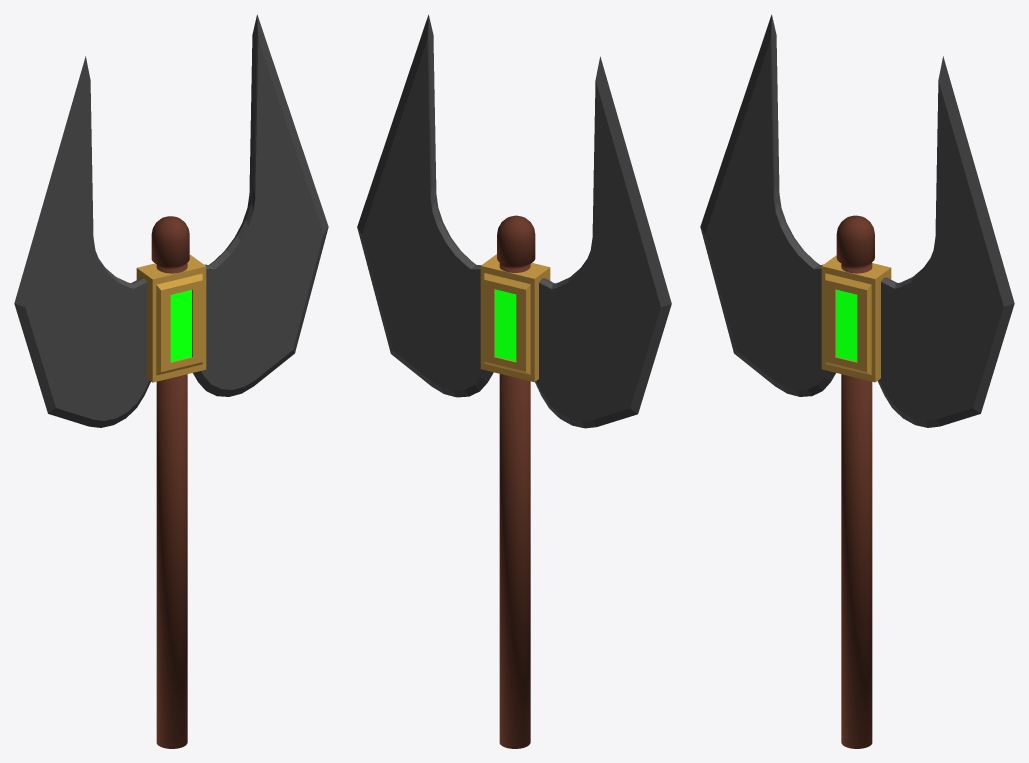
The model's file is axe.fbx.
3 views of the same model, side by side, from view 1: azimuth 30°, elevation 25°; view 2: azimuth 150°, elevation 25°; view 3: azimuth 330°, elevation 25° (orthographic).
Parts seen in each view (by area): view 1: BézierCurve; view 2: BézierCurve; view 3: BézierCurve.
Part boxes in pixels (x1=…): BézierCurve: x1=14, y1=14, x2=328, y2=748; BézierCurve: x1=357, y1=14, x2=671, y2=748; BézierCurve: x1=700, y1=14, x2=1014, y2=748.
Bounding box in the file's own units: 234 × 502 × 26.62.
